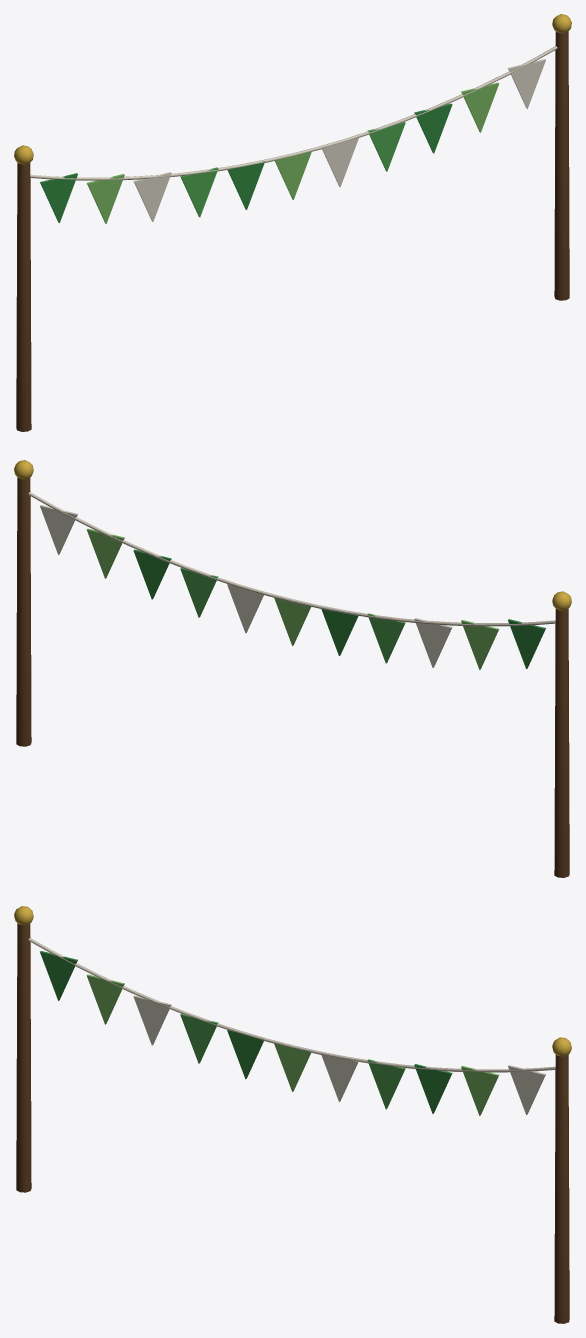
Rendered from bunting_green.glb.
3 views of the same model, one above another, from view 1: azimuth 30°, elevation 25°; view 2: azimuth 150°, elevation 25°; view 3: azimuth 330°, elevation 25° (orthographic).
Visible parts, largest first — view 1: bunting_green_main; view 2: bunting_green_main; view 3: bunting_green_main.
Boxes of the visible parts, x1,y1,x2,y2 form: bunting_green_main: (14, 14, 571, 431); bunting_green_main: (14, 460, 571, 877); bunting_green_main: (14, 906, 571, 1323).
Bounding box in the file's own units: 2.85 × 1.38 × 0.09.
